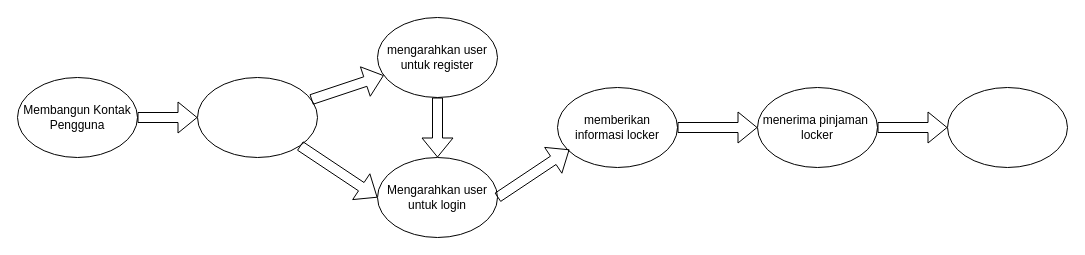
Some shapes in this 1085 by 255 pixel diagram are drawn without their labels. The centre of each missing label's shape, as x and y in pixels:
mengarahkan user ke website: pixel 257 117
pairing sidik jari pengguna ke locker: pixel 1007 127
